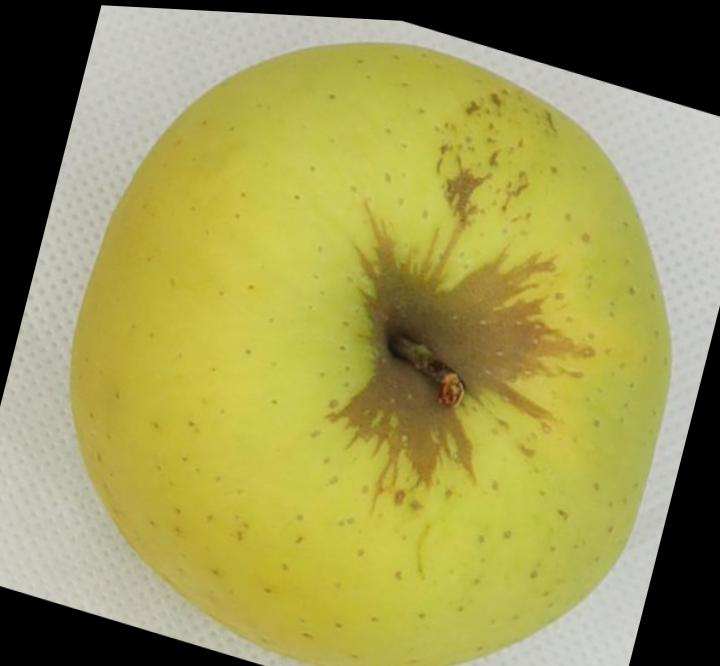apple: (70, 42, 669, 666)
bruise_discoloration: (329, 225, 593, 485)
